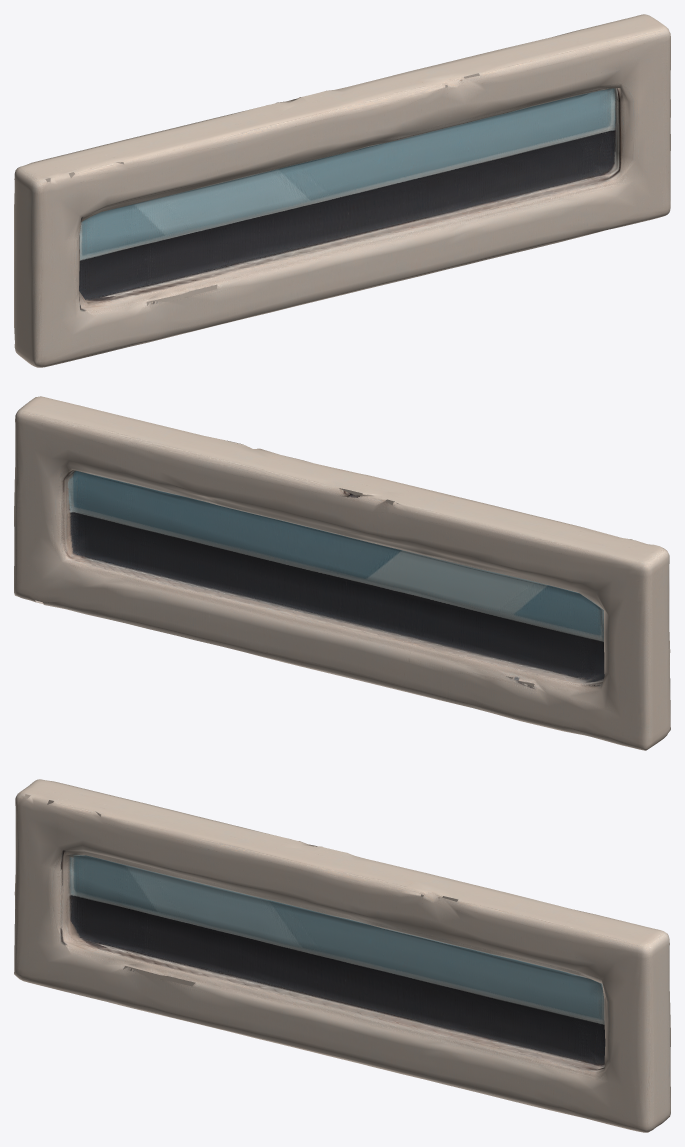
Rendered from house_mod_window_banjiha_glassver.glb.
3 views of the same model, one above another, from view 1: azimuth 30°, elevation 25°; view 2: azimuth 150°, elevation 25°; view 3: azimuth 330°, elevation 25° (orthographic).
Size of the model in its own units: 2 by 0.5689 by 0.1362.
Materials: 1 (1 with a texture image).
